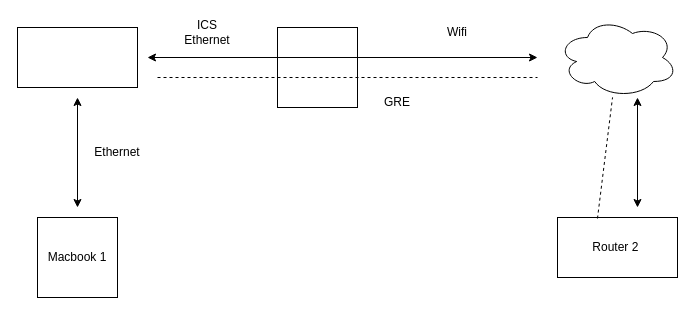
The diagram is 695 pixels wide and 315 high, and some of its shapes have lost their labels. Here are the shapes that lost their labels. From the top down, the box of each, then its label:
(16, 26, 138, 88): Router
(276, 26, 358, 108): Macbook 2
